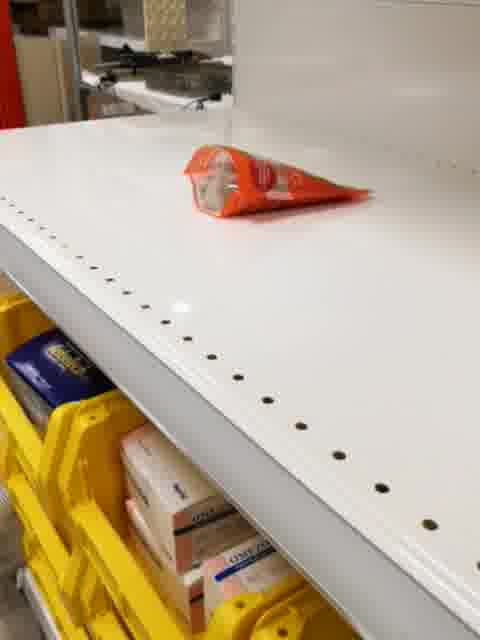whitechia: (180, 140, 378, 223)
